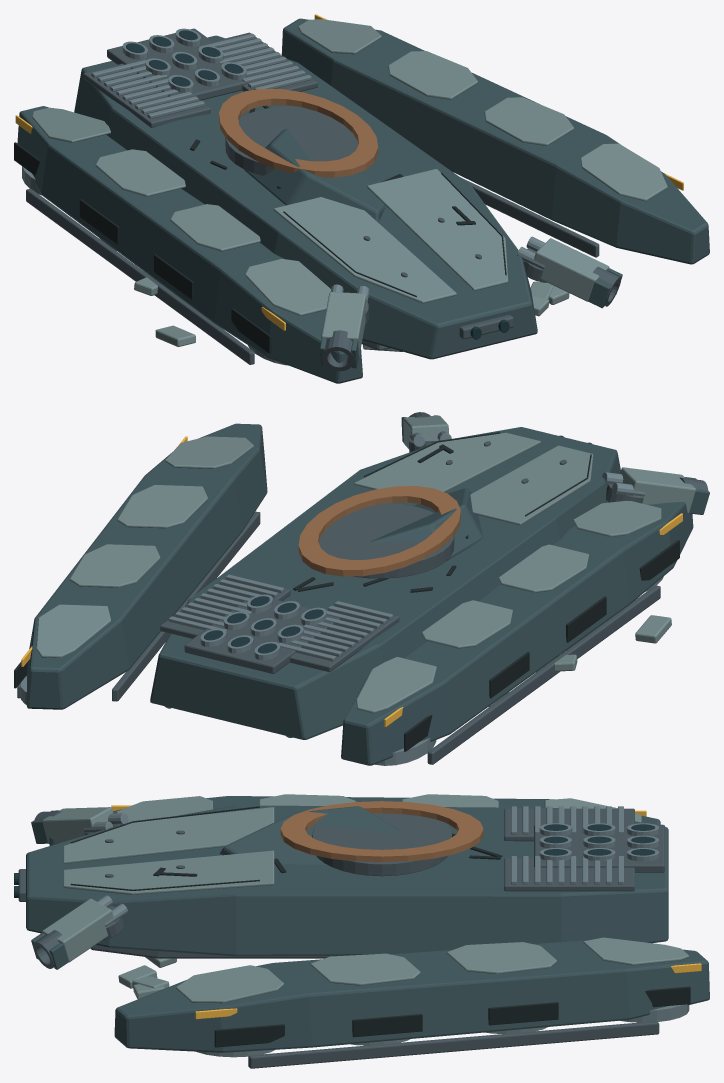
File: mork_hover_tank_d3.glb
3 views of the same model, one above another, from view 1: azimuth 30°, elevation 25°; view 2: azimuth 150°, elevation 25°; view 3: azimuth 270°, elevation 25° (orthographic). The views are drawn at different scales.
Parts seen in each view (by area): view 1: Low armored main hull.003, Armored hover nacelle.007, Armored hover nacelle.006, Swept glacis armor.006, Tapered nacelle shield.028, Tapered nacelle shield.024, Engine cooling louver.060, Broken turret race, Engine heat exchanger.006, Turret azimuth bearing.003, Detached turret armor, Ground contact skid.012 (+7 smaller); view 2: Low armored main hull.003, Armored hover nacelle.006, Armored hover nacelle.007, Tapered nacelle shield.028, Swept glacis armor.006, Tapered nacelle shield.024, Broken turret race, Engine cooling louver.060, Engine heat exchanger.006, Turret azimuth bearing.003, Ground contact skid.012, Lift vent recess.024 (+7 smaller); view 3: Low armored main hull.003, Armored hover nacelle.007, Swept glacis armor.006, Tapered nacelle shield.028, Engine heat exchanger.006, Ground contact skid.014, Broken turret race, Turret azimuth bearing.003, Lift vent recess.028, Tapered nacelle shield.024, Detached turret armor, Engine cooling louver.060 (+9 smaller).
Part boxes in pixels (box(x1,y1,x2,y2)): Low armored main hull.003: box(74, 35, 537, 359); Armored hover nacelle.007: box(281, 18, 709, 264); Armored hover nacelle.006: box(17, 106, 362, 383); Swept glacis armor.006: box(273, 169, 508, 303); Tapered nacelle shield.028: box(298, 19, 667, 201); Tapered nacelle shield.024: box(32, 107, 330, 315); Engine cooling louver.060: box(91, 33, 311, 118); Broken turret race: box(219, 88, 378, 177); Engine heat exchanger.006: box(83, 28, 513, 339); Turret azimuth bearing.003: box(225, 105, 358, 175); Detached turret armor: box(244, 128, 385, 222); Ground contact skid.012: box(26, 188, 254, 364); Low armored main hull.003: box(150, 427, 620, 739); Armored hover nacelle.006: box(341, 502, 693, 765); Armored hover nacelle.007: box(26, 423, 267, 709); Tapered nacelle shield.028: box(36, 436, 253, 657); Swept glacis armor.006: box(354, 432, 593, 525); Tapered nacelle shield.024: box(356, 500, 661, 713); Broken turret race: box(298, 486, 460, 576); Engine cooling louver.060: box(168, 574, 392, 661); Engine heat exchanger.006: box(160, 441, 566, 673); Turret azimuth bearing.003: box(319, 503, 454, 578); Ground contact skid.012: box(427, 585, 660, 764); Lift vent recess.024: box(404, 540, 679, 751); Low armored main hull.003: box(26, 805, 668, 956); Armored hover nacelle.007: box(114, 939, 709, 1052); Swept glacis armor.006: box(63, 807, 274, 894); Tapered nacelle shield.028: box(176, 937, 689, 1003); Engine heat exchanger.006: box(18, 808, 664, 901); Ground contact skid.014: box(248, 1021, 659, 1068); Broken turret race: box(280, 801, 483, 861); Turret azimuth bearing.003: box(312, 813, 451, 876); Lift vent recess.028: box(214, 986, 690, 1047); Tapered nacelle shield.024: box(116, 794, 641, 822); Detached turret armor: box(220, 806, 402, 864); Engine cooling louver.060: box(511, 806, 623, 884).
Bounding box in the file's own units: 8.79 × 1.98 × 11.14.
